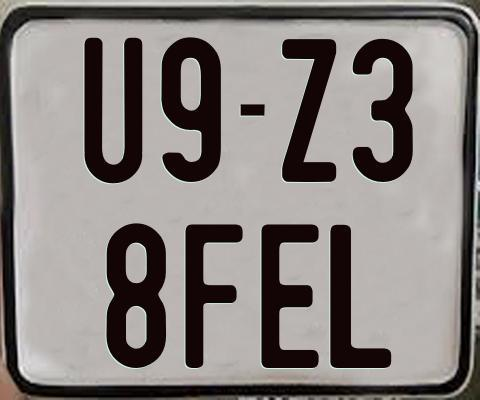3: (352, 38, 418, 186)
8: (104, 220, 168, 370)
9: (159, 37, 224, 182)
E: (260, 224, 321, 370)
F: (184, 221, 246, 367)
L: (329, 222, 391, 367)
U: (81, 36, 145, 187)
Z: (282, 36, 341, 184)
